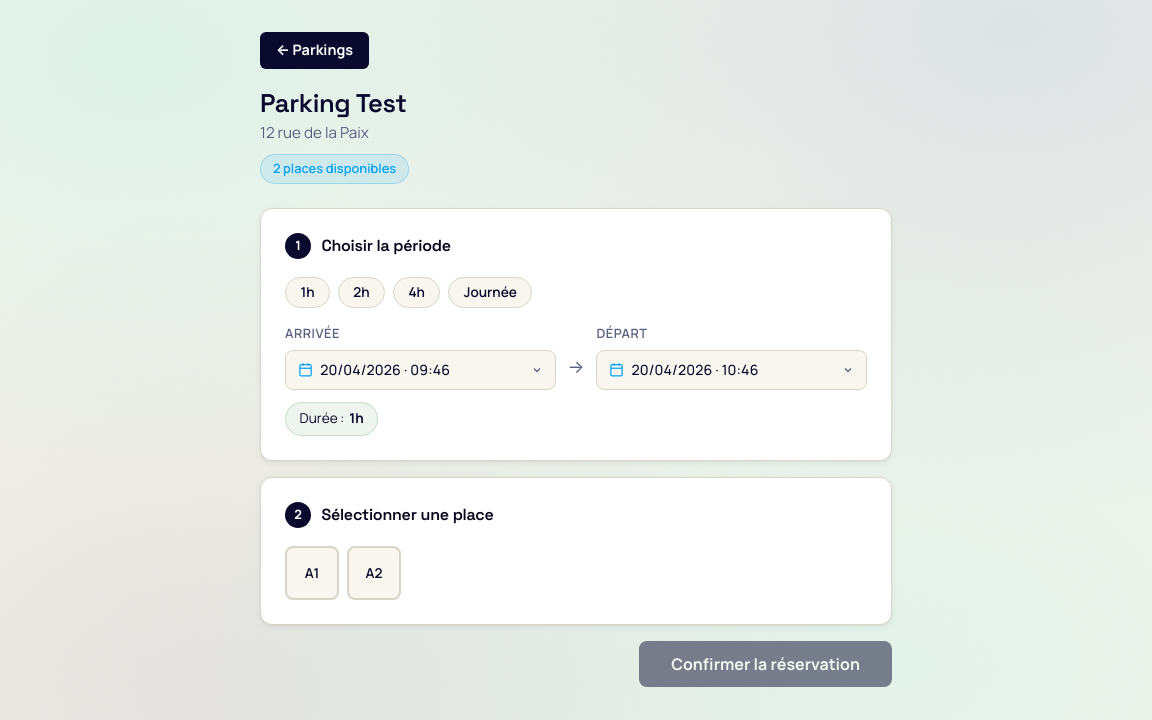
Test case: ParkingDetail › bouton submit actif après sélection d'une place
Click the button "A1": coordinates (312, 572) [285, 546, 339, 600]
(page scrolled)
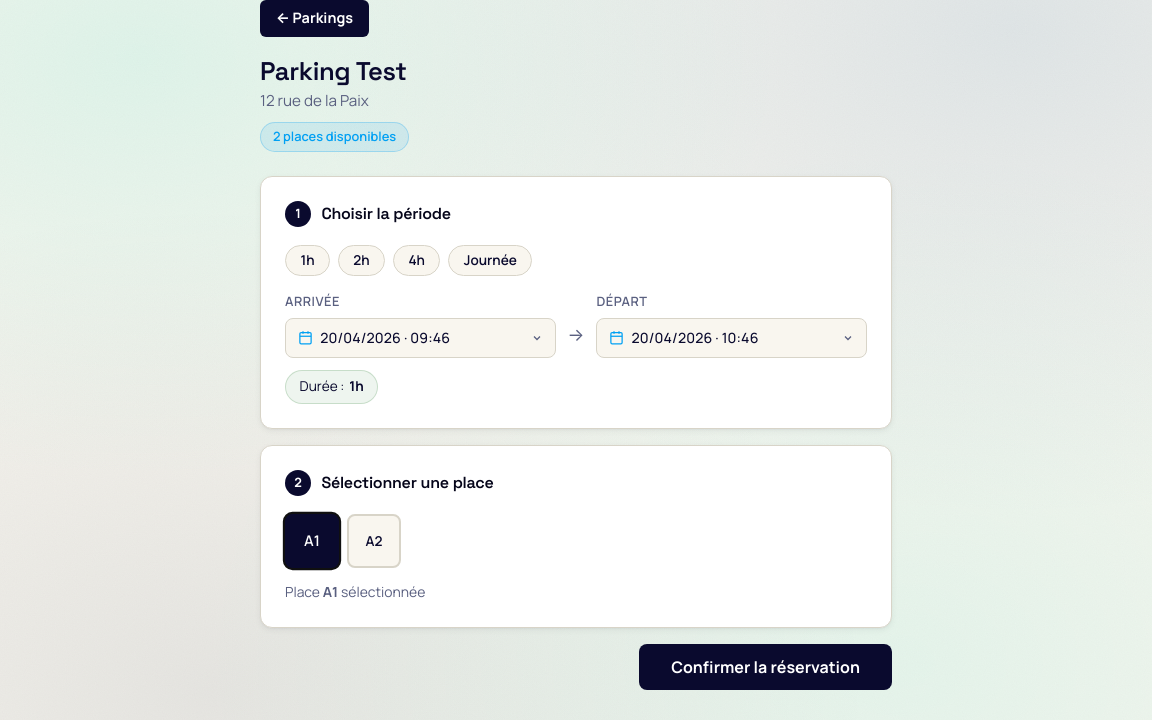
Check: the button "Confirmer la réservation" is enabled, box [639, 644, 892, 690]
